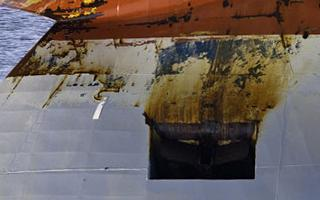rust: (152, 38, 265, 146), (6, 41, 97, 78), (18, 1, 97, 38)
